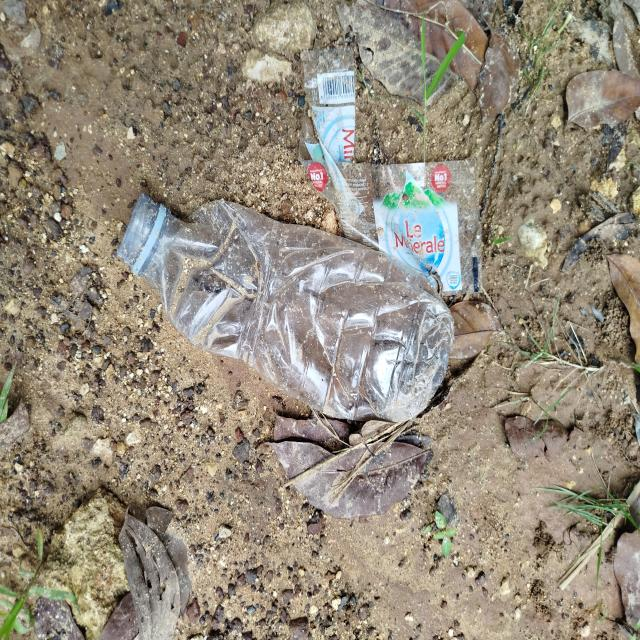plastic: (110, 184, 460, 430)
